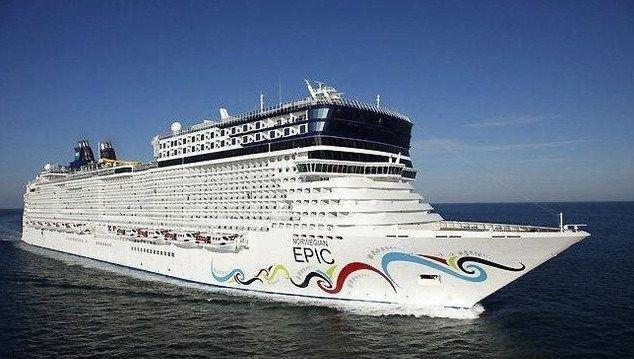youlun: (16, 77, 590, 321)
